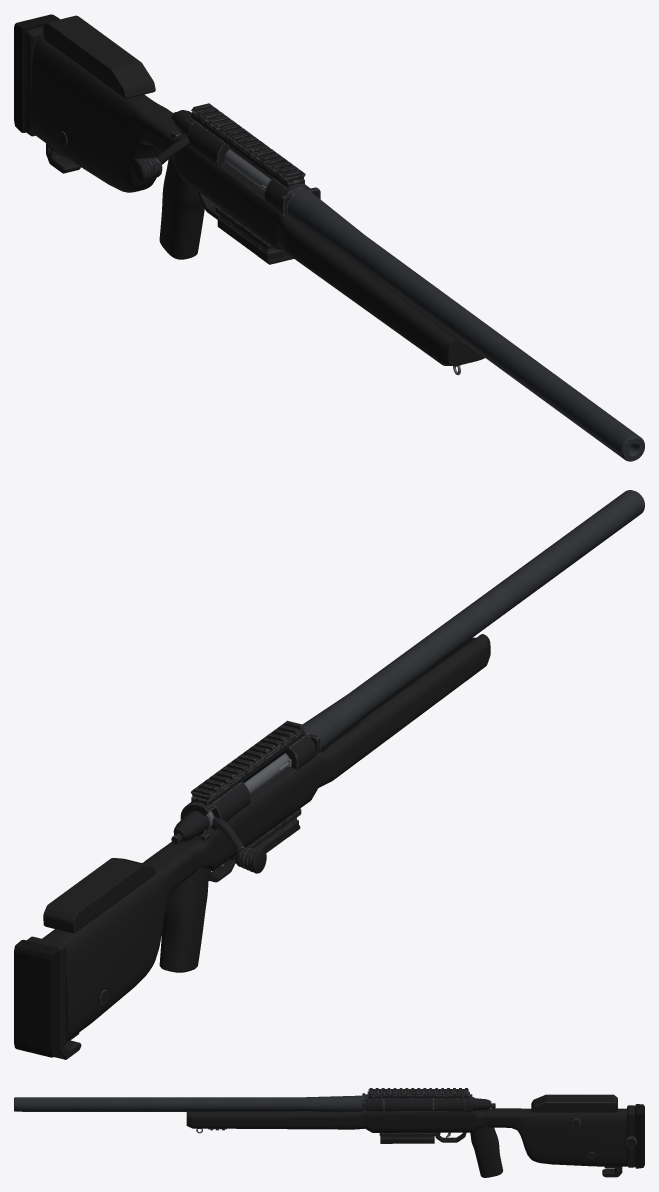
3 renders of one model, top to bottom at view 1: azimuth 30°, elevation 25°; view 2: azimuth 150°, elevation 25°; view 3: azimuth 270°, elevation 25°, orthographic. The views are drawn at different scales.
Visible parts, largest first — view 1: Body, Bolt, Mag; view 2: Body, Bolt; view 3: Body, Mag, Bolt.
Part boxes in pixels (x1=…): Body: x1=14, y1=14, x2=644, y2=461; Bolt: x1=131, y1=110, x2=271, y2=190; Mag: x1=217, y1=208, x2=293, y2=264; Body: x1=14, y1=490, x2=644, y2=1059; Bolt: x1=171, y1=753, x2=291, y2=873; Body: x1=14, y1=1088, x2=644, y2=1177; Mag: x1=380, y1=1132, x2=434, y2=1143; Bolt: x1=472, y1=1097, x2=495, y2=1110.
Size of the model in its own units: 0.0906 by 0.1596 by 1.06.
